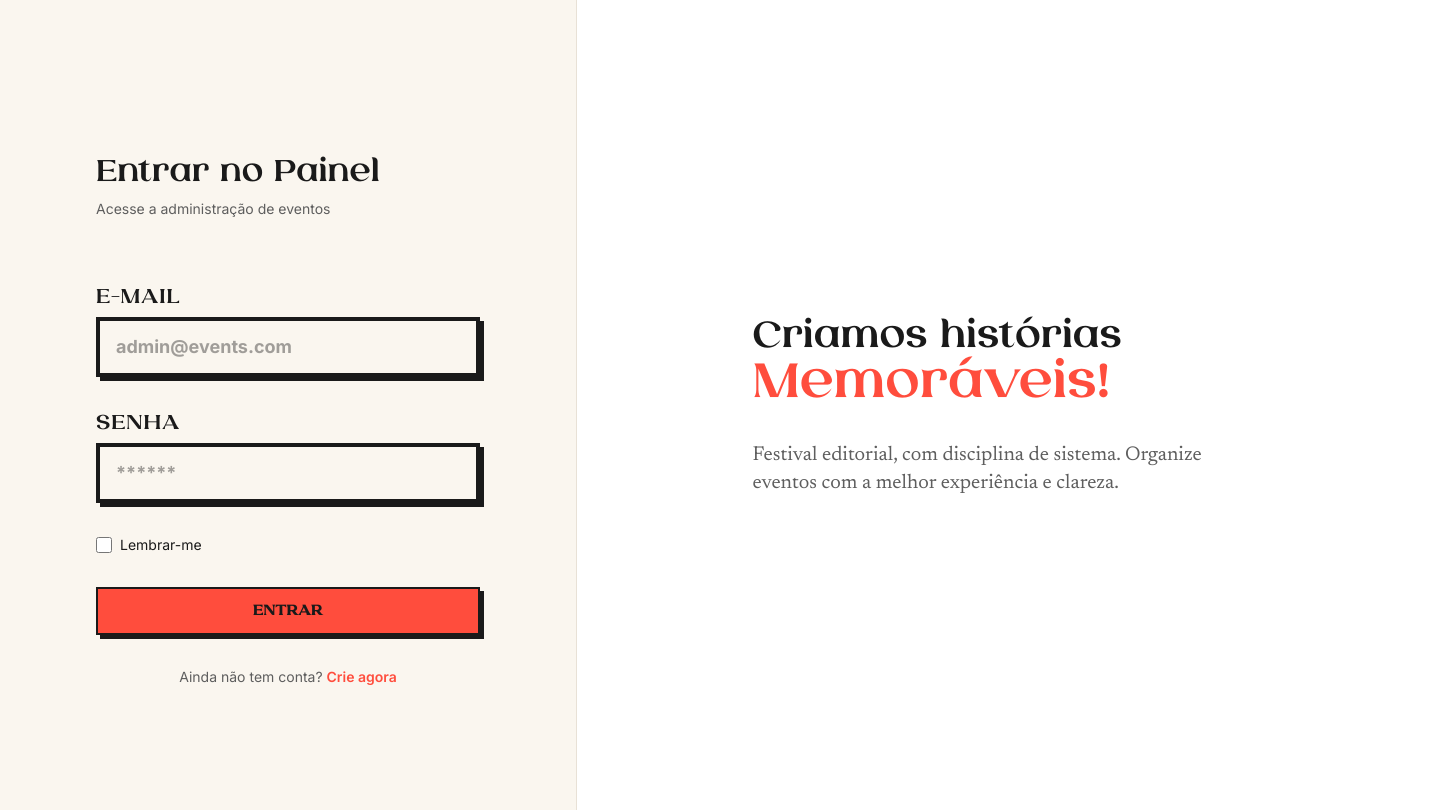
Test: Login page › exibe erros de validação para email vazio
Click the button "Entrar" at (288, 611), box x1=96 y1=587 x2=480 y2=635
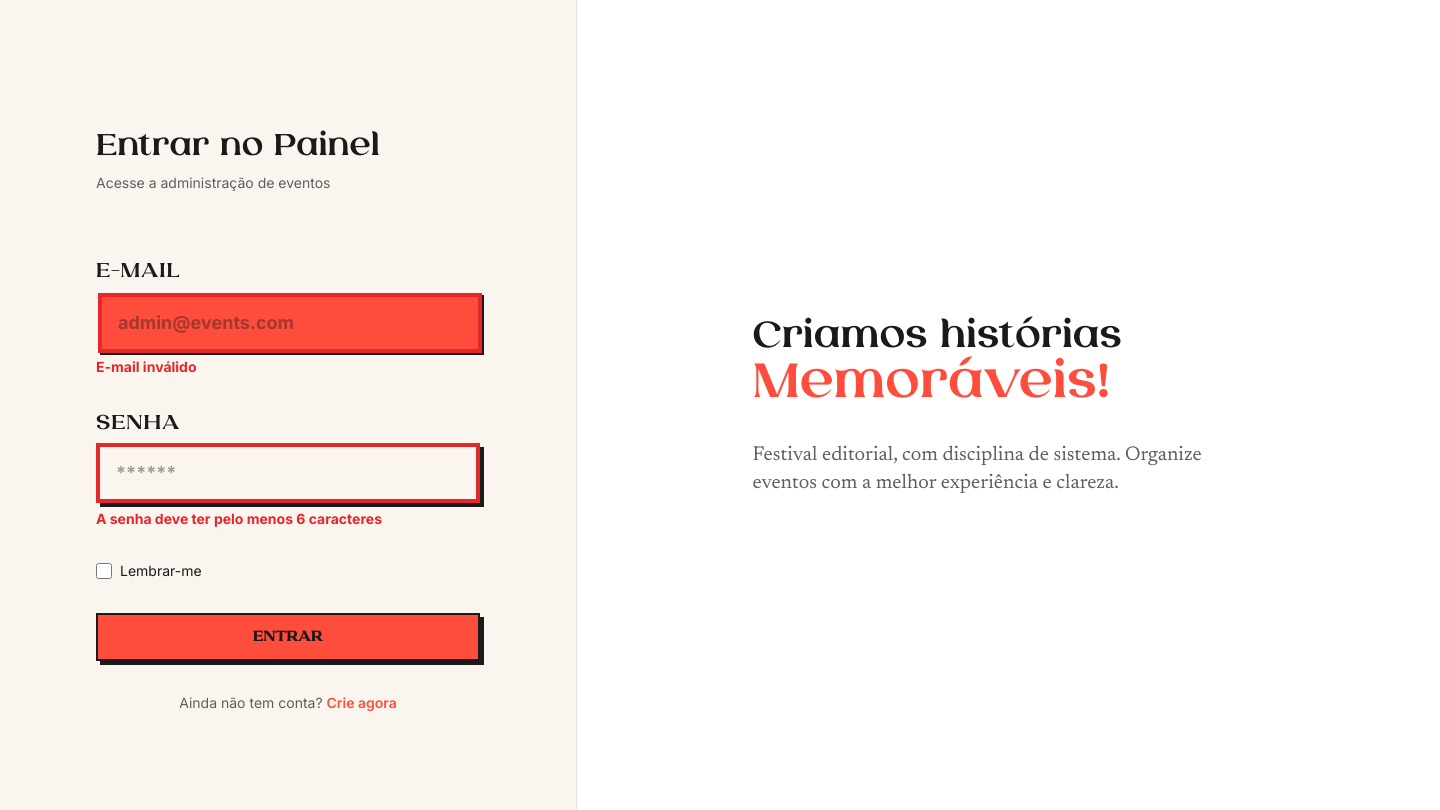
Check: the text "E-mail inválido" is shown, box x1=96 y1=358 x2=196 y2=375
